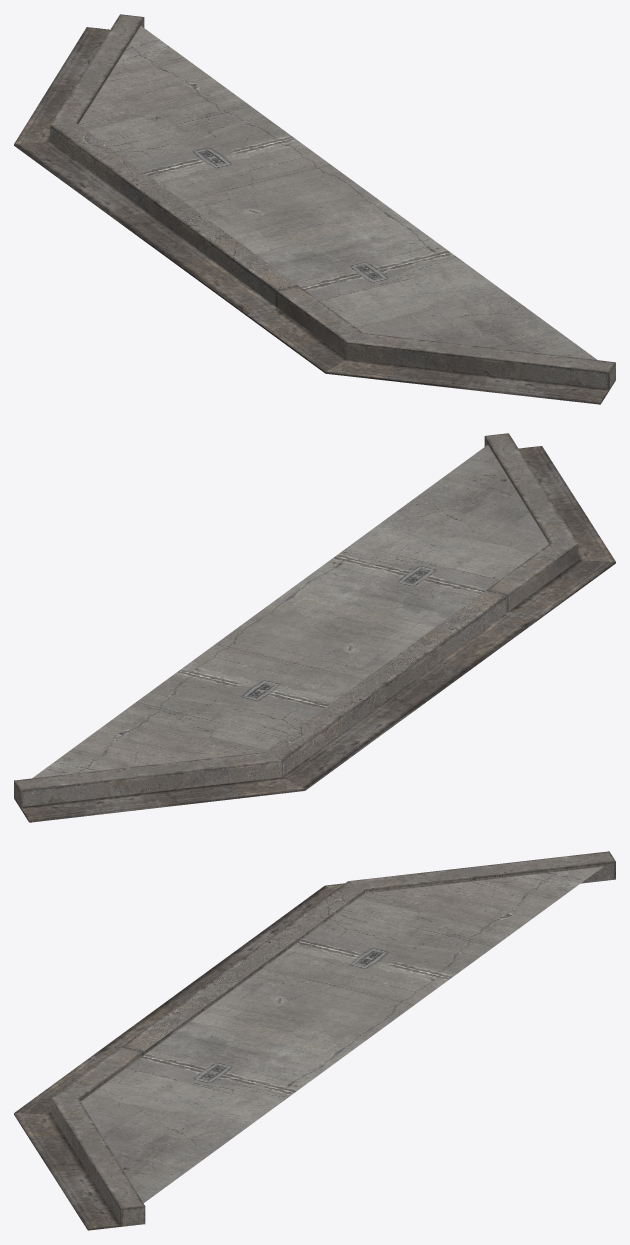
Rendered from CP_Sidewalk_Refuge_02.fbx.
3 renders of one model, top to bottom at view 1: azimuth 30°, elevation 25°; view 2: azimuth 150°, elevation 25°; view 3: azimuth 330°, elevation 25°, orthographic.
Parts seen in each view (by area): view 1: CP_Sidewalk_Refuge_02; view 2: CP_Sidewalk_Refuge_02; view 3: CP_Sidewalk_Refuge_02.
Boxes of the visible parts, x1=… form: CP_Sidewalk_Refuge_02: x1=14, y1=14, x2=615, y2=404; CP_Sidewalk_Refuge_02: x1=14, y1=433, x2=615, y2=822; CP_Sidewalk_Refuge_02: x1=14, y1=851, x2=615, y2=1230.
Bounding box in the file's own units: 156 × 12.77 × 656.
